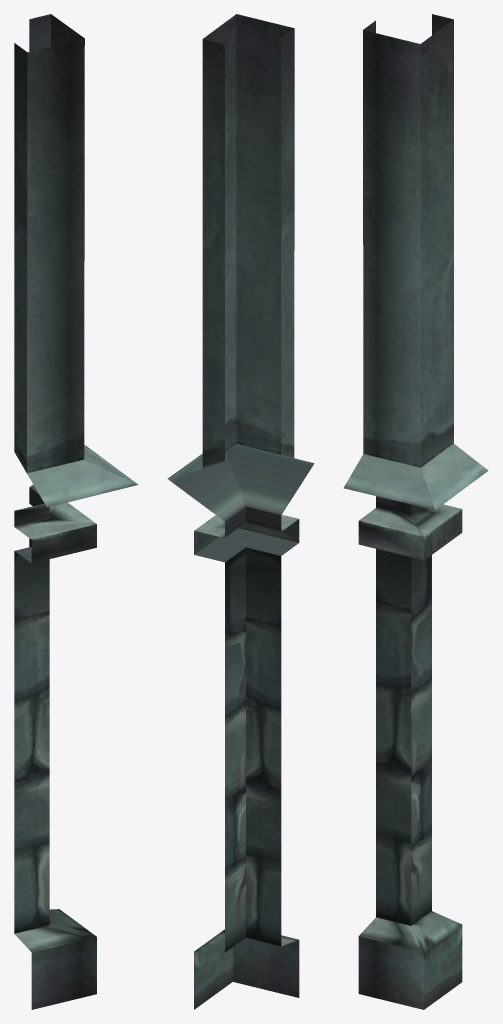
File: crypt_wall_convex_03.fbx
3 renders of one model, left to right at view 1: azimuth 30°, elevation 25°; view 2: azimuth 150°, elevation 25°; view 3: azimuth 330°, elevation 25°, orthographic.
Visible parts, largest first — view 1: crypt_wall_convex_03-0; view 2: crypt_wall_convex_03-0; view 3: crypt_wall_convex_03-0.
Part boxes in pixels (box(x1,y1,x2,y2)): crypt_wall_convex_03-0: box(14, 14, 138, 1009); crypt_wall_convex_03-0: box(167, 14, 314, 1009); crypt_wall_convex_03-0: box(343, 14, 488, 1009).
Bounding box in the file's own units: 0.5521 × 5.5 × 0.5537.
